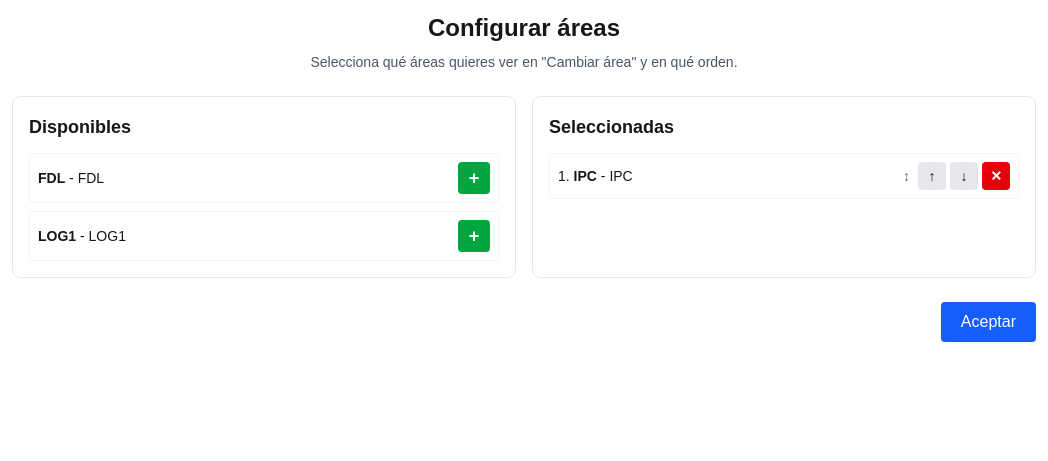
Test case: AreaConfiguration › shows validation error when trying to accept an empty selection
Step 1. Click the button named "Quitar IPC" → (996,176), box [982,162,1010,190]
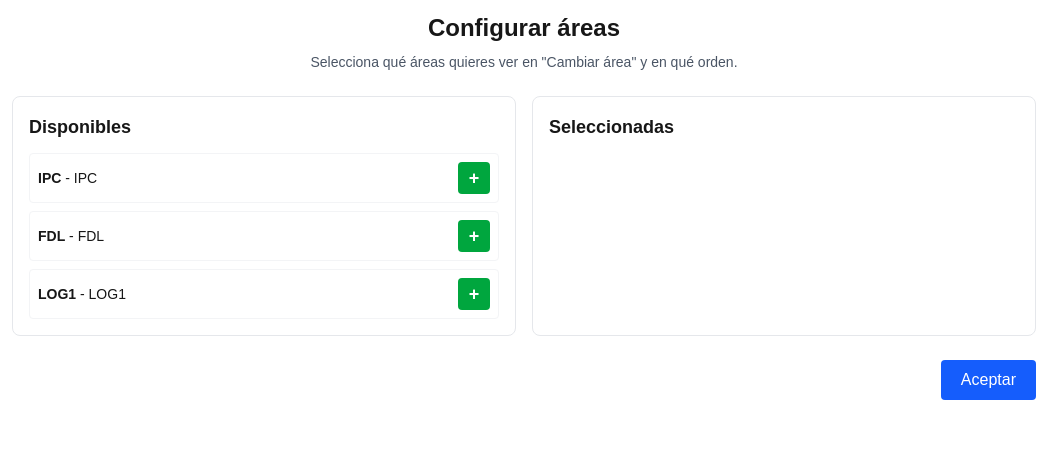
Step 2. Click the button with test id "area-config-accept" → (988,380), box [941,360,1036,400]
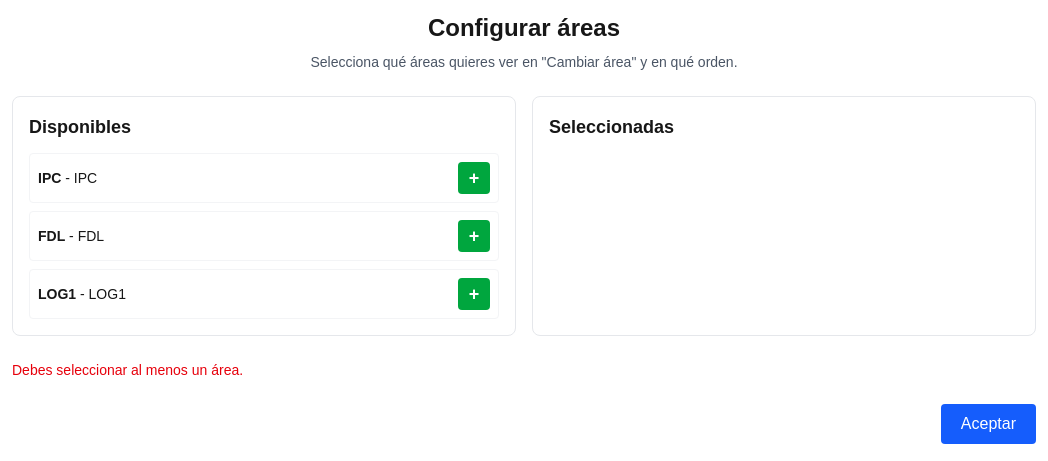
Expected: the text "Debes seleccionar al menos un área." is shown, [12,362,243,378]
